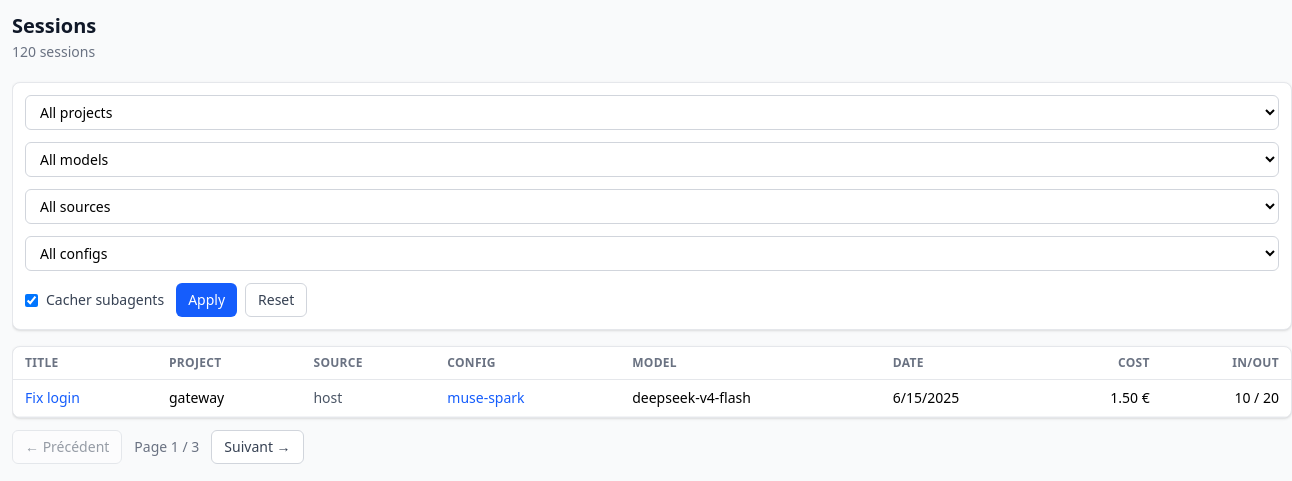
SessionsView › paginates: page 1 disables Précédent, and Suivant moves to page 2 of 3
Expected: the link "Fix login" is shown, [25,388,80,407]
Expected: the button "← Précédent" is disabled, [12,430,122,464]
Click the button "Suivant →": (258,447) [211,430,304,464]
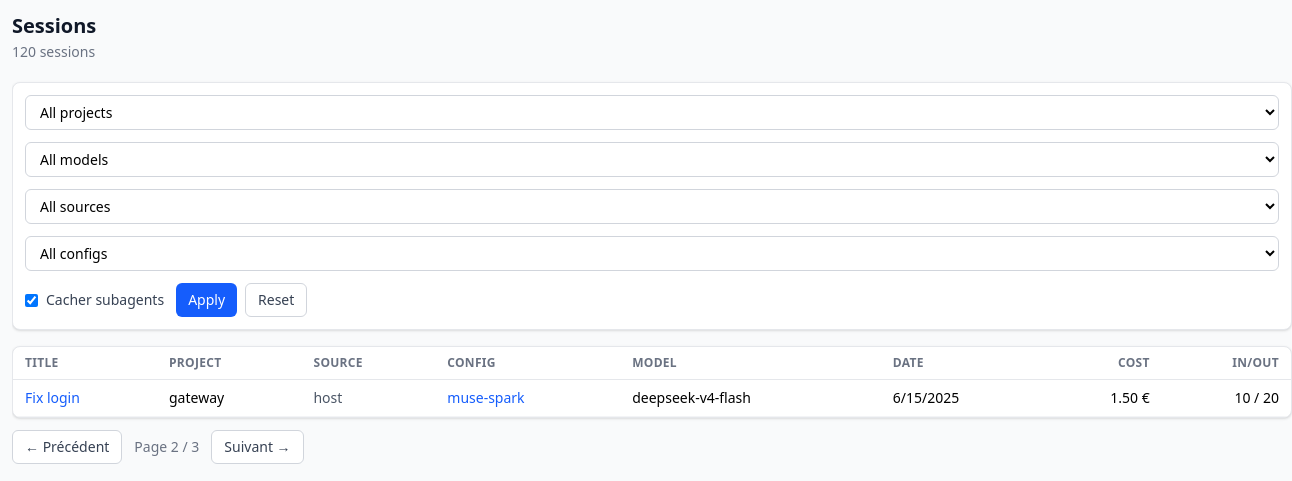
Result: the text "Page 2 / 3" is shown at [134,437,199,457]
